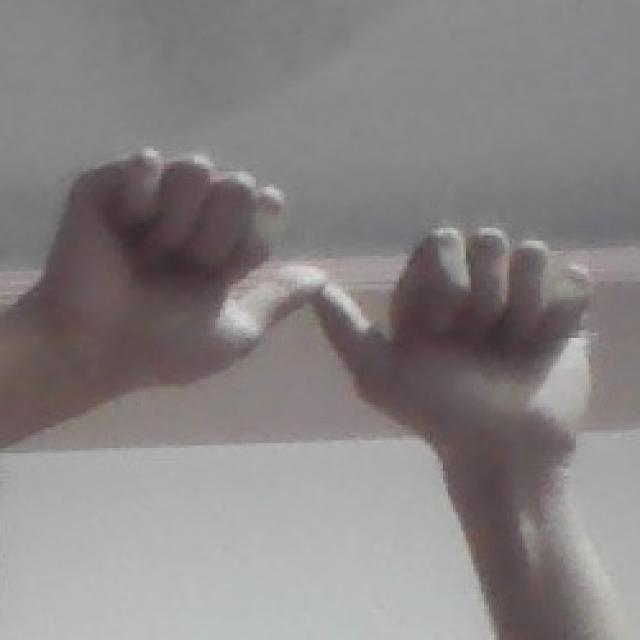Alphabet-A: (37, 140, 596, 478)
